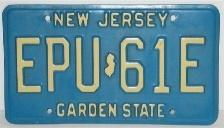1: (150, 35, 174, 95)
6: (118, 35, 147, 95)
E: (177, 35, 210, 95), (15, 35, 43, 94)
P: (45, 35, 72, 93)
U: (73, 34, 101, 95)
